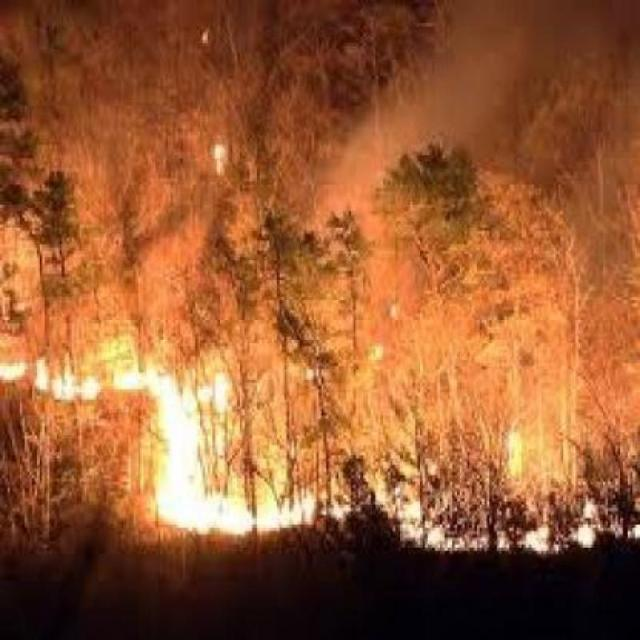Fire: (0, 324, 640, 556)
